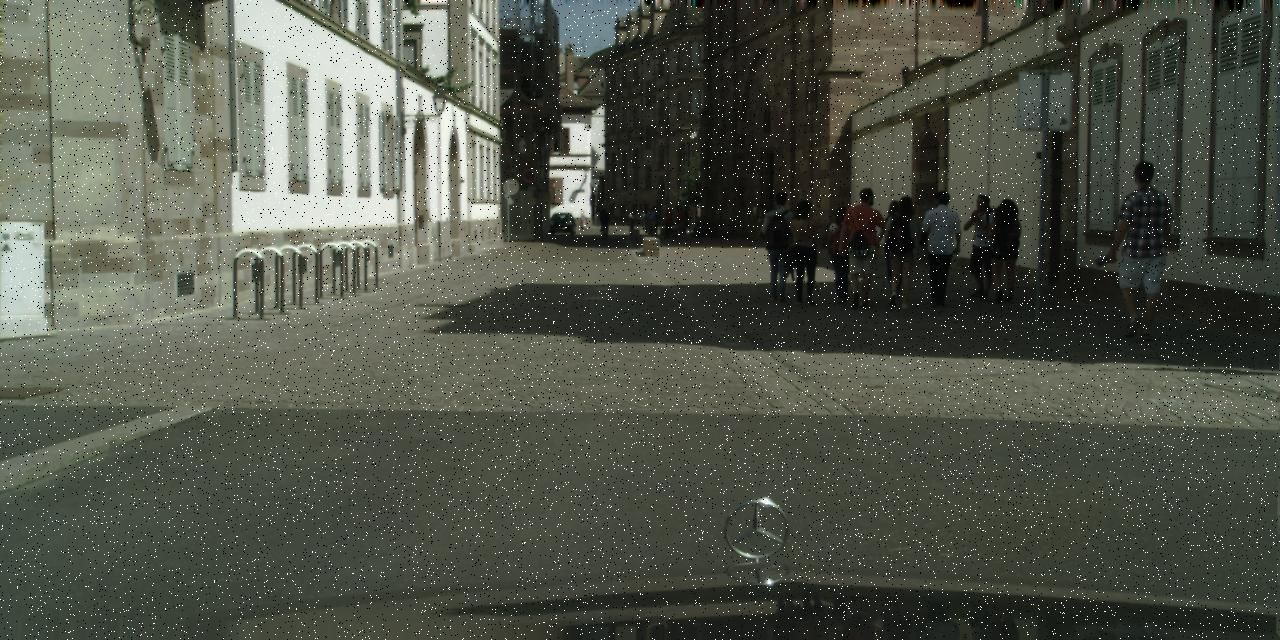ped: (1106, 160, 1178, 337), (839, 186, 889, 307), (916, 190, 964, 306), (879, 195, 924, 307), (757, 190, 801, 300), (959, 194, 1002, 299), (784, 199, 826, 304), (984, 198, 1026, 300), (875, 199, 915, 297), (824, 206, 862, 302), (754, 204, 769, 240), (645, 205, 659, 236), (669, 206, 681, 237), (662, 207, 674, 237), (674, 208, 685, 237), (682, 208, 692, 234), (598, 208, 608, 234), (579, 210, 586, 230)
